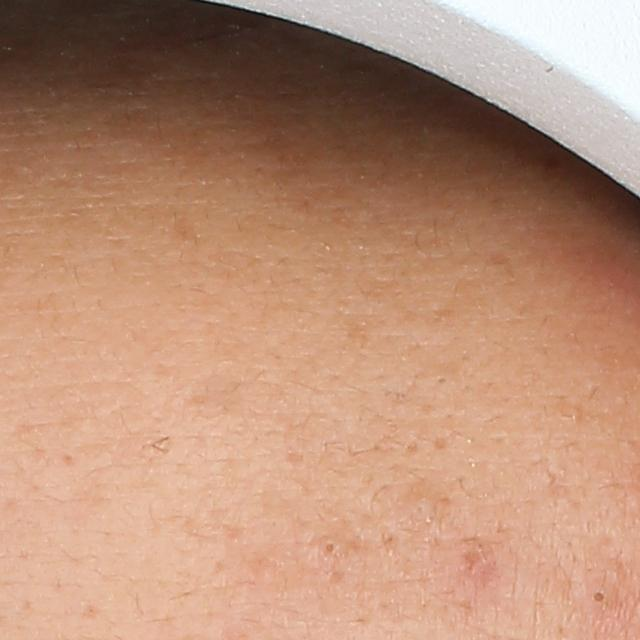comedo: (404, 486, 448, 524), (311, 533, 345, 563), (426, 367, 454, 395), (585, 584, 613, 611)
